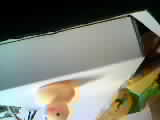duck: (35, 72, 84, 117)
